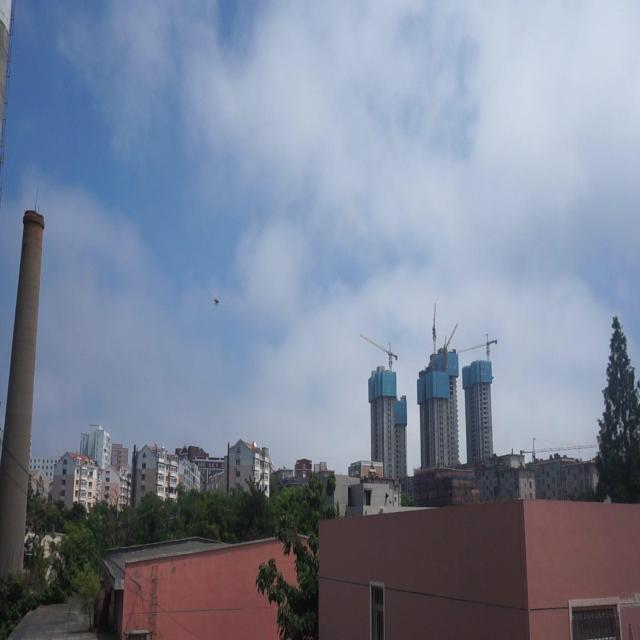drone: (212, 292, 220, 310)
